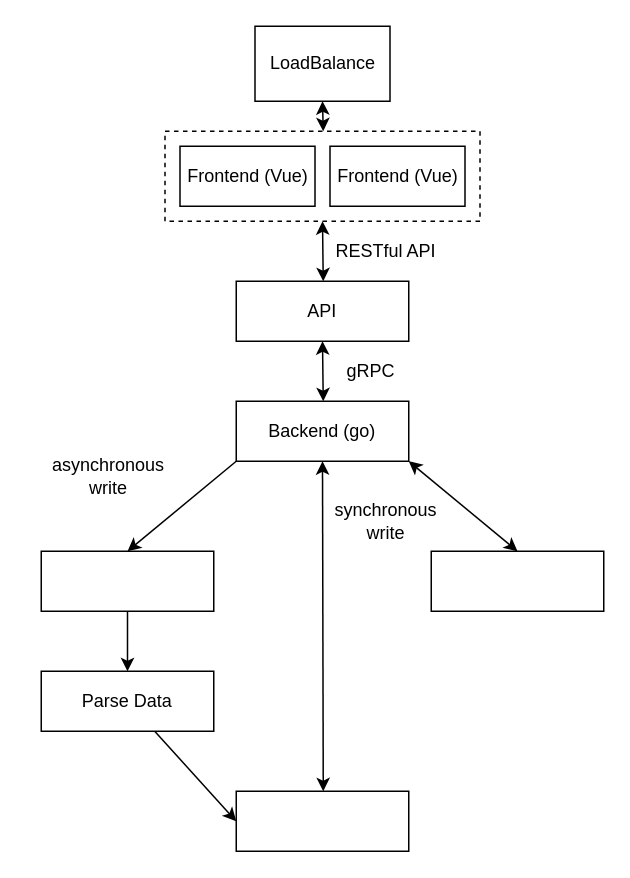
The diagram is 630 pixels wide and 878 high, and some of its shapes have lost their labels. Here are the shapes that lost their labels. From the top down, the centre of each, then its label:
At point 127,580: "MessageQueue (Kafka)".
At point 517,580: "Cache (Redis)".
At point 322,820: "DataBase (Mysql)".
